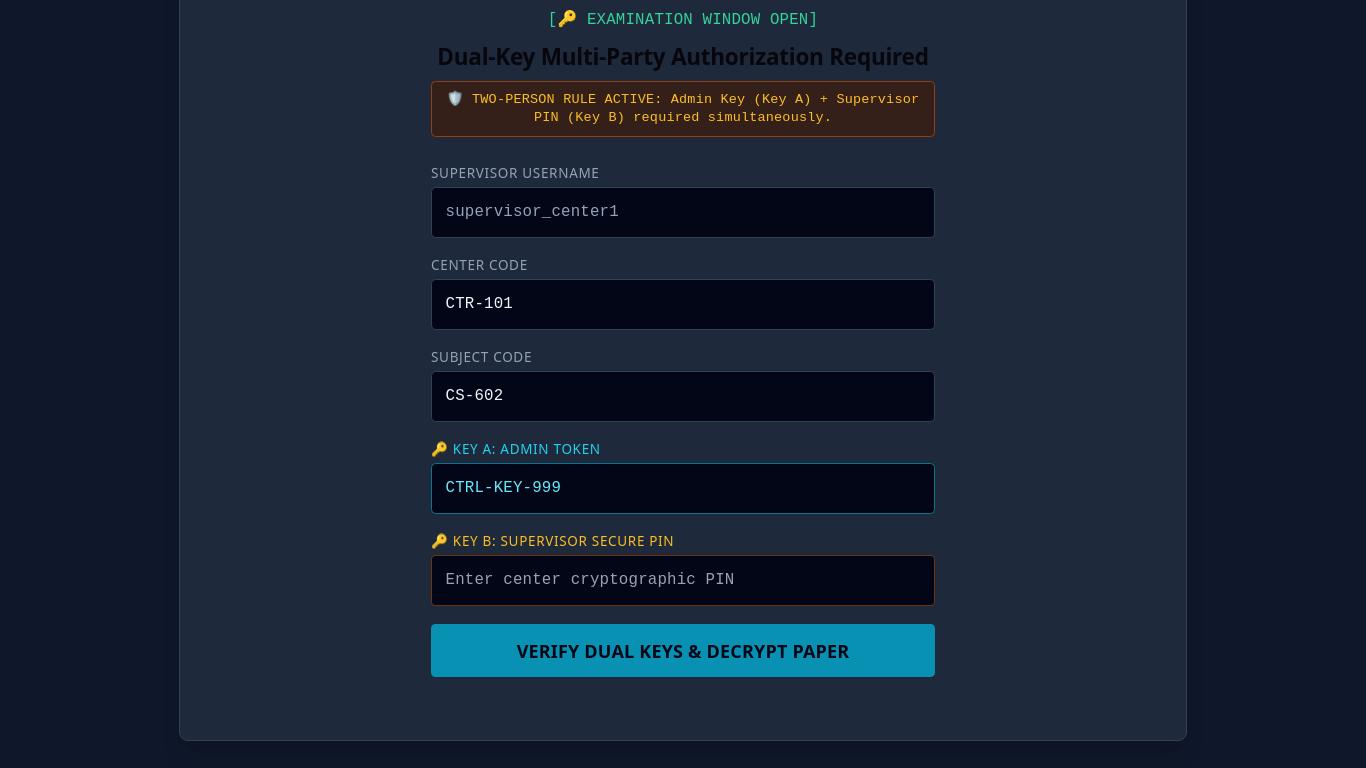
Scenario: ExamDashboard Auto-Logout Timer › renders SCHEDULE EXAM tab, displays dynamic center dropdown, and schedules exam via AI Agent
(page scrolled)
Type "1234" into the password field labelled "🔑 Key B: Supervisor Secure PIN" at {"x": 683, "y": 580}, box [431,554,935,606]
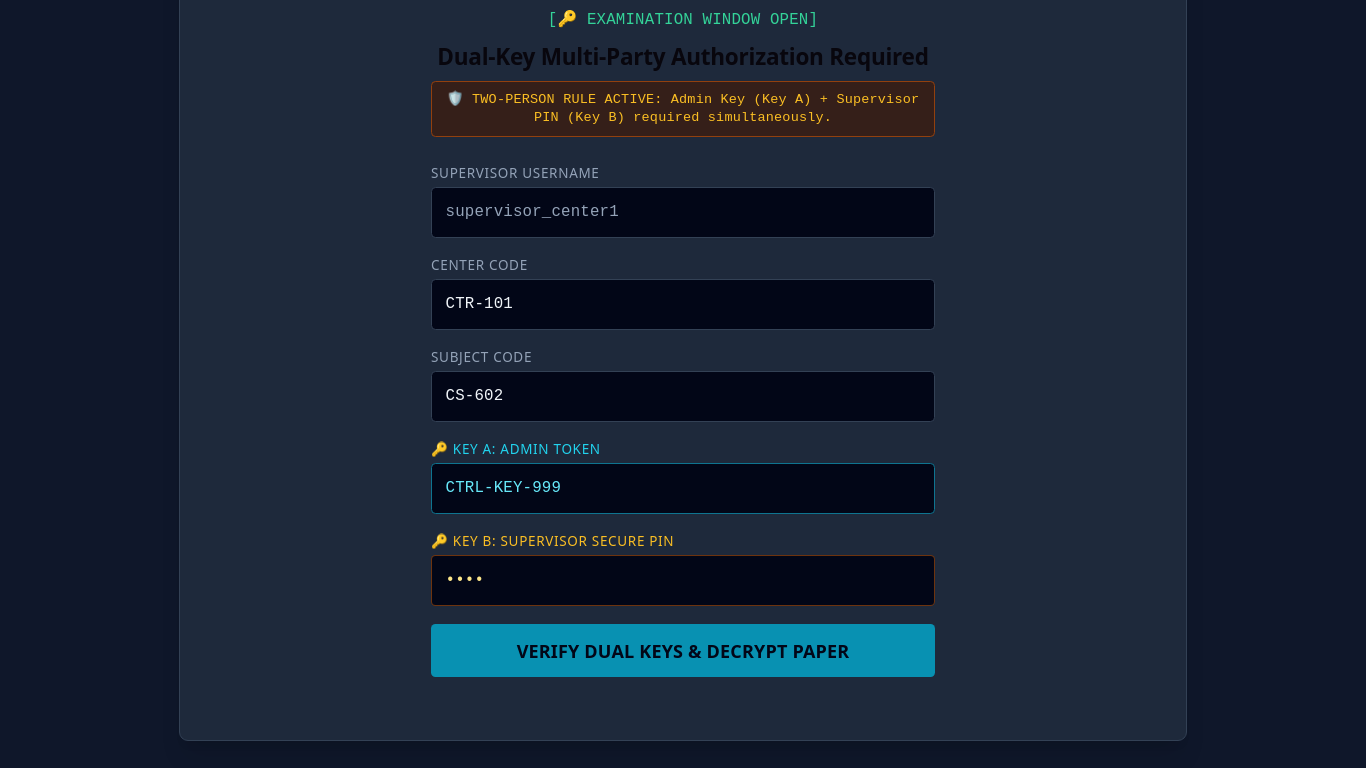
Submit the form named "supervisor secure pin", box [431,164,935,677]
(page scrolled)
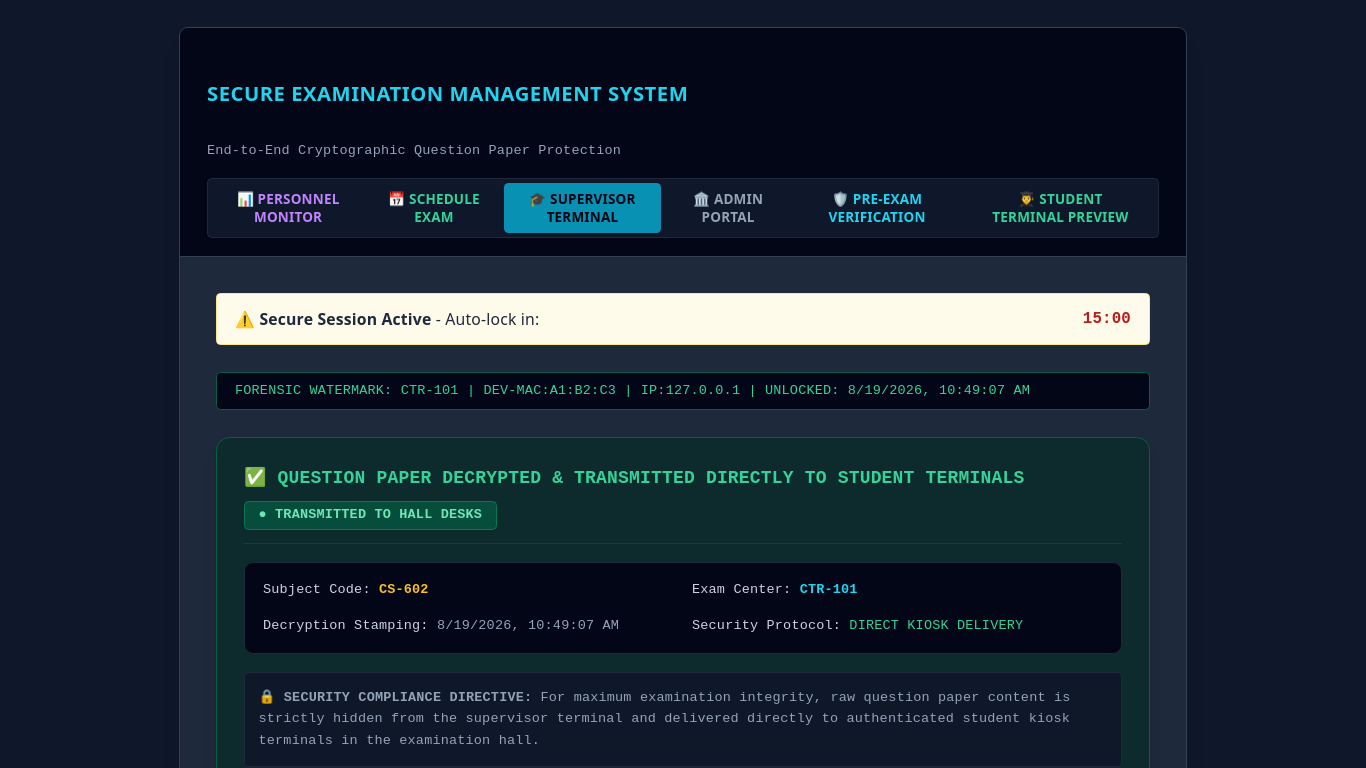
Click the button "📅 SCHEDULE EXAM" at {"x": 434, "y": 208}, box [373,183,495,232]
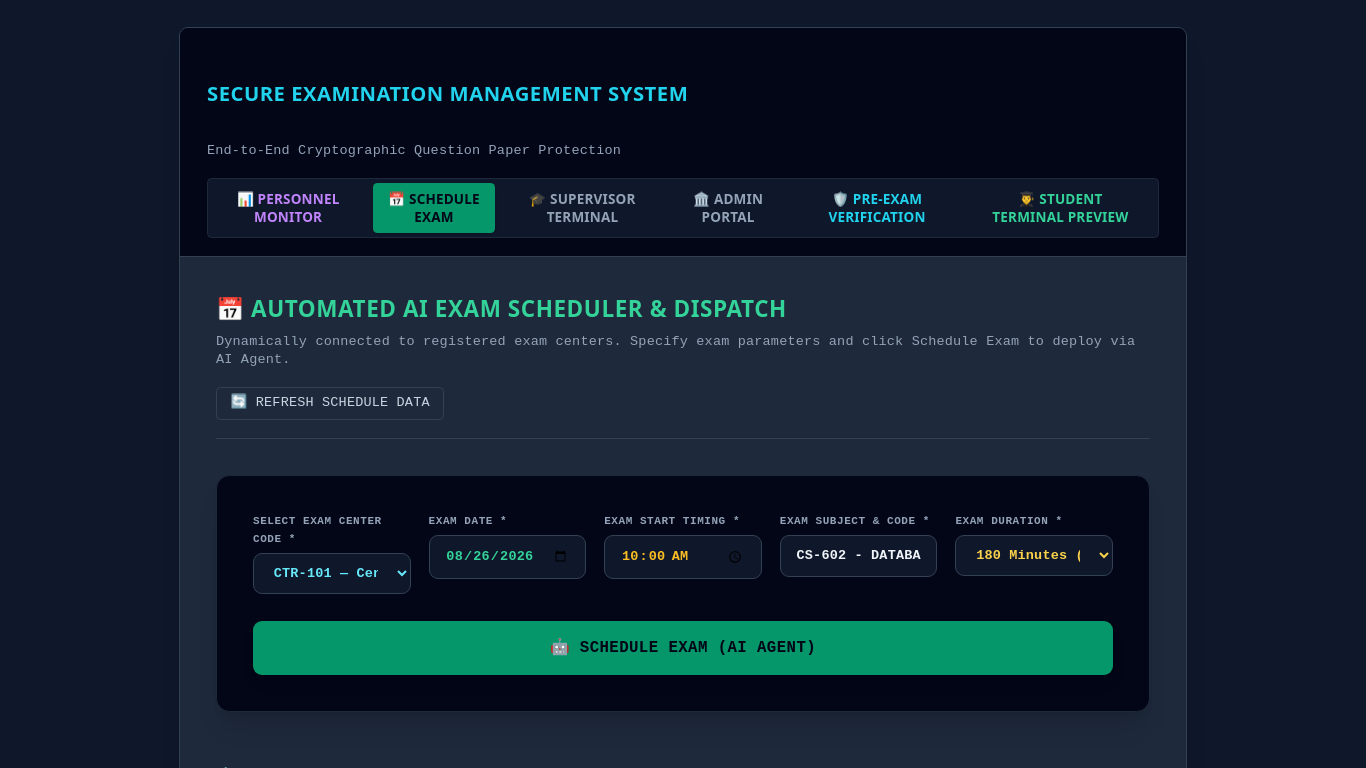
Now the heading "📅 AUTOMATED AI EXAM SCHEDULER & DISPATCH" is shown, box [216,293,787,324]
Now the dropdown labelled "SELECT EXAM CENTER CODE *" is shown, box [253,552,411,594]
Now the time field labelled "EXAM START TIMING *" is shown, box [604,534,762,579]
